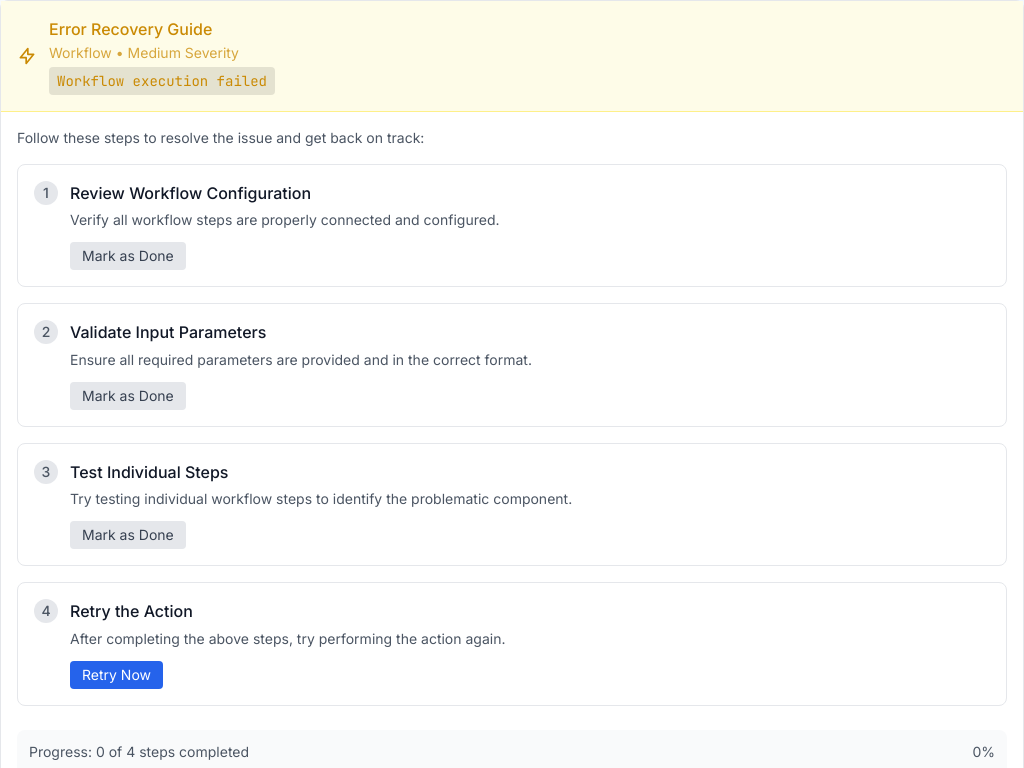
it: ErrorRecoveryGuide › handles retry action correctly
Click the button "Retry Now" at coordinates (116, 675), box [70, 661, 163, 689]
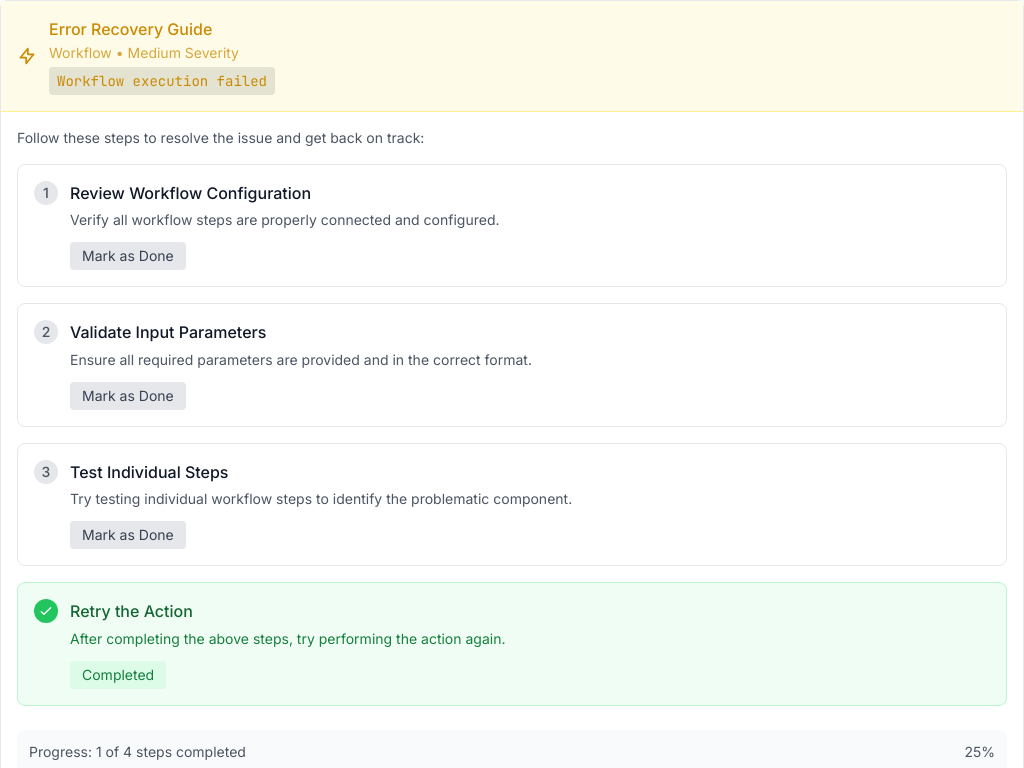
expect the button "Completed" is shown: met, box [70, 661, 166, 689]
